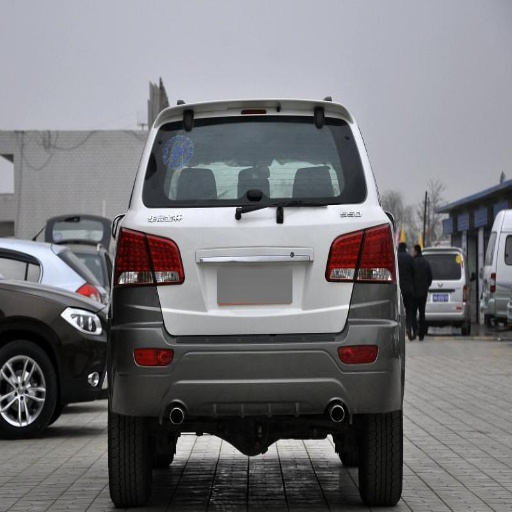back_bumper: (66, 283, 405, 418)
trunk: (141, 207, 369, 338)
